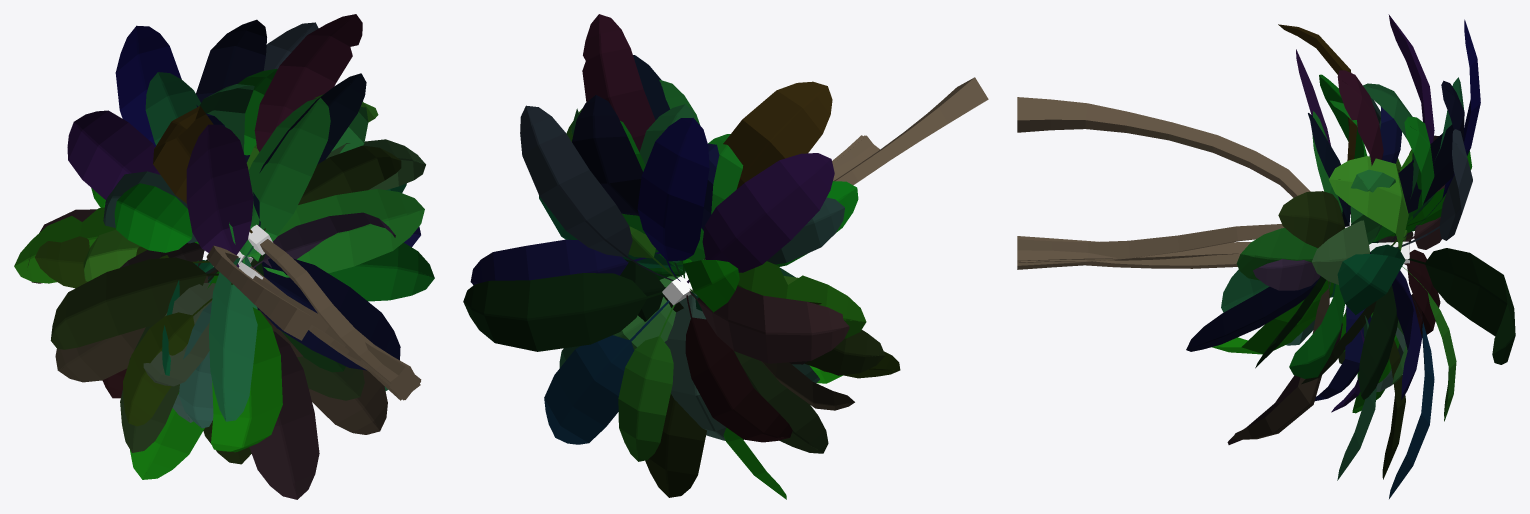
Rendered from Small Trees.fbx.
The picture shows the model from 3 angles, left to right: view 1: azimuth 30°, elevation 25°; view 2: azimuth 150°, elevation 25°; view 3: azimuth 270°, elevation 25°; orthographic projection.
Visible parts, largest first — view 1: Palm Tree 1, Palm Tree 3, Palm Tree 4, Palm Tree 2; view 2: Palm Tree 2, Palm Tree 4, Palm Tree 1, Palm Tree 3; view 3: Palm Tree 2, Palm Tree 3, Palm Tree 4, Palm Tree 1.
Part boxes in pixels (x1,y1,x2,y2): Palm Tree 1: (50, 69, 434, 464); Palm Tree 3: (35, 72, 424, 499); Palm Tree 4: (14, 14, 425, 452); Palm Tree 2: (28, 22, 420, 400); Palm Tree 2: (463, 104, 865, 461); Palm Tree 4: (470, 14, 879, 453); Palm Tree 1: (559, 79, 900, 497); Palm Tree 3: (539, 77, 988, 499); Palm Tree 2: (1017, 14, 1515, 498); Palm Tree 3: (1017, 77, 1472, 444); Palm Tree 4: (1017, 24, 1464, 399); Palm Tree 1: (1017, 49, 1434, 480).
Size of the model in its own units: 923 by 977 by 981.
